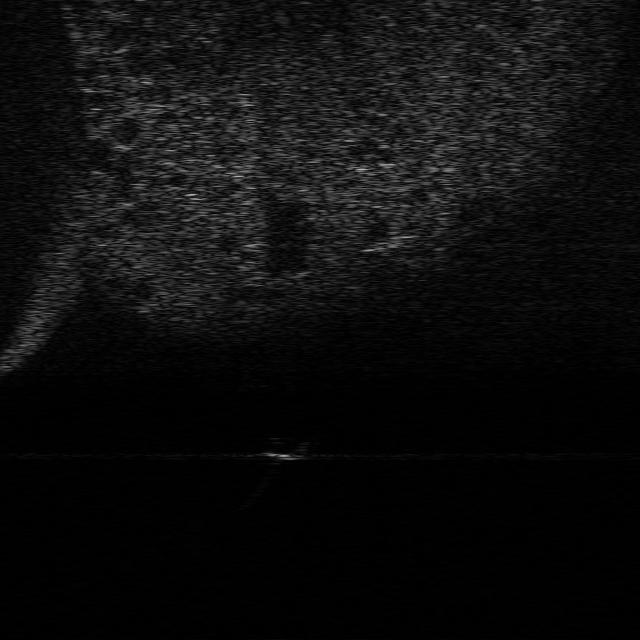cube: (264, 437, 310, 461)
